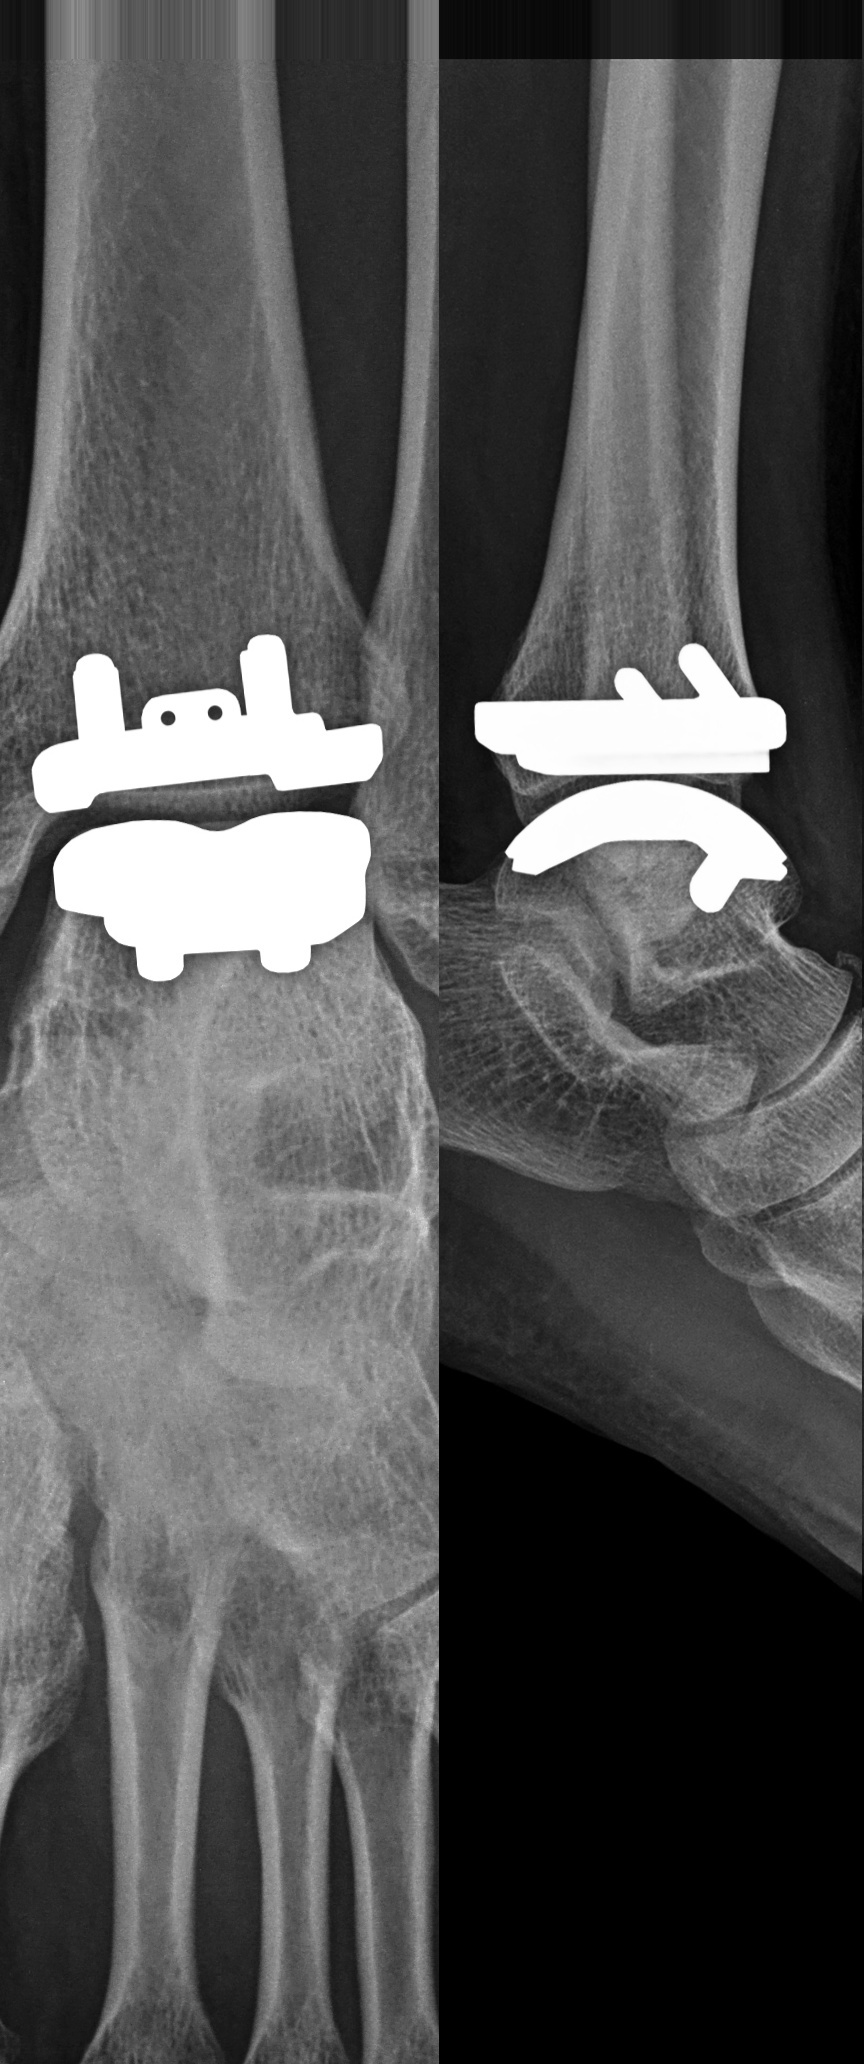Cadence-Integra: (20, 624, 394, 1000), (457, 640, 810, 929)
